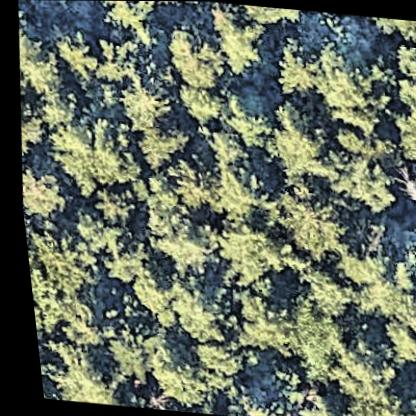tree-top: (37, 115, 143, 197), (20, 225, 103, 316), (133, 339, 233, 406), (148, 268, 231, 348), (264, 188, 351, 262), (309, 44, 390, 123), (217, 280, 296, 356), (258, 96, 333, 176), (158, 18, 235, 93), (324, 250, 414, 312), (318, 331, 392, 402), (63, 207, 137, 278), (203, 213, 276, 282), (203, 157, 275, 226), (39, 338, 112, 405), (252, 357, 332, 416), (278, 300, 339, 375), (324, 151, 396, 213), (107, 66, 173, 132), (210, 16, 273, 82), (148, 212, 215, 274), (262, 34, 324, 96), (14, 157, 70, 221), (101, 319, 156, 384), (95, 1, 167, 50), (128, 114, 190, 169), (284, 265, 350, 314), (22, 81, 82, 133), (381, 108, 416, 195), (374, 295, 416, 367), (83, 33, 140, 83), (220, 93, 270, 149), (167, 154, 217, 209), (129, 174, 178, 228), (384, 27, 416, 109), (15, 50, 72, 94), (340, 387, 416, 416), (171, 86, 226, 126), (52, 35, 97, 82), (189, 125, 247, 160), (237, 3, 310, 30), (13, 99, 51, 150), (91, 184, 135, 226), (370, 15, 416, 44)
